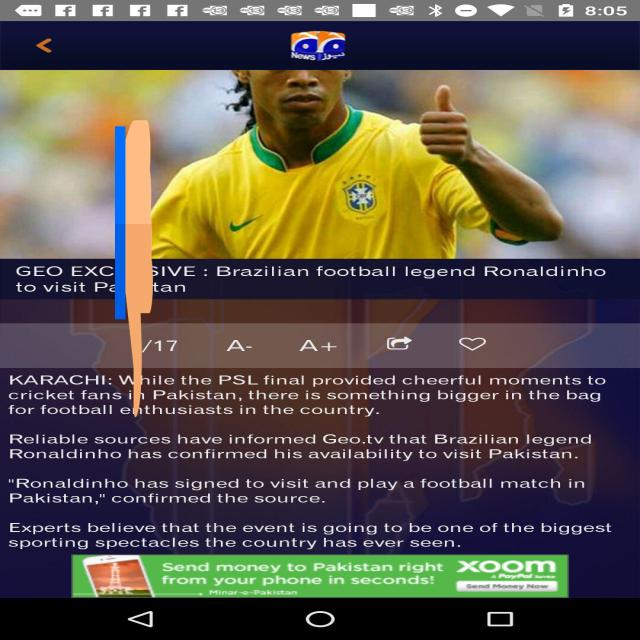obstruction: (115, 113, 153, 425)
